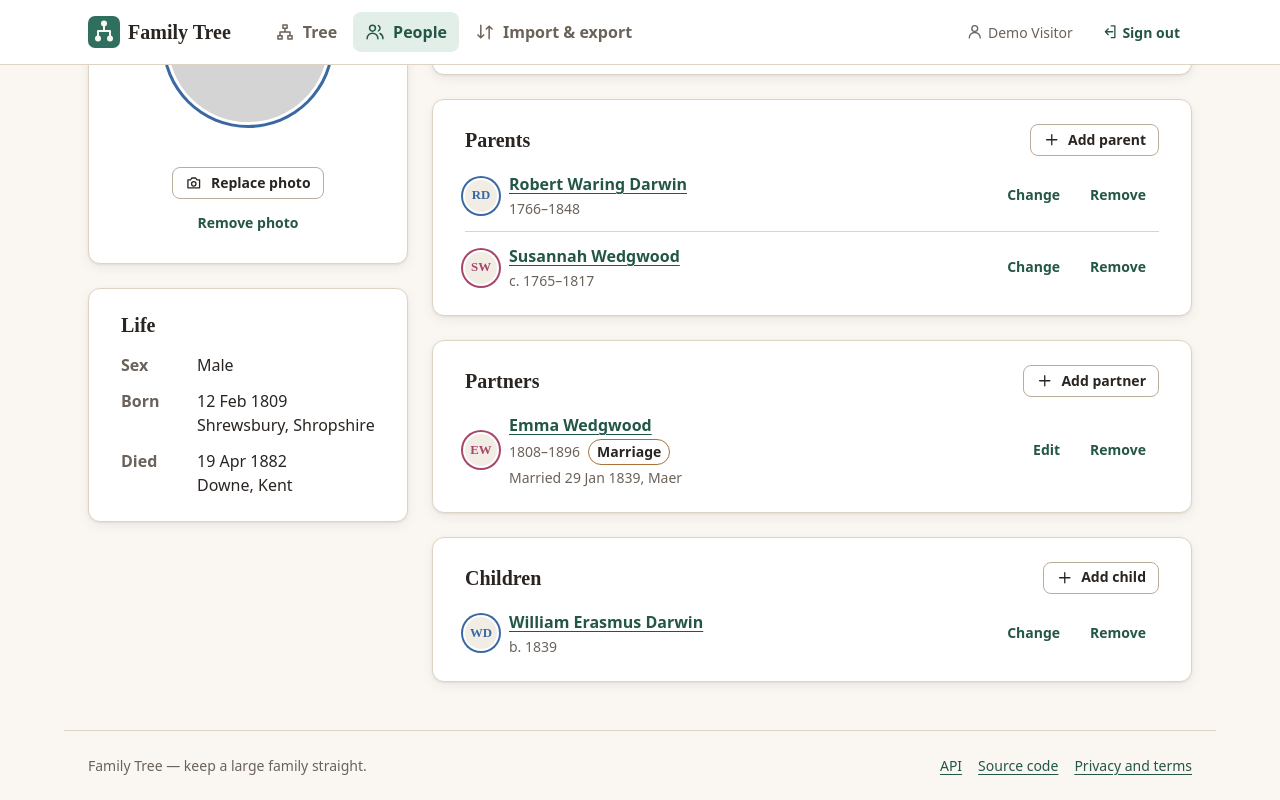
it: removing a partnership asks for confirmation
(page scrolled)
Click the button named "Remove Emma Wedgwood". click: (1118, 450)
box: left=1077, top=434, right=1159, bottom=466
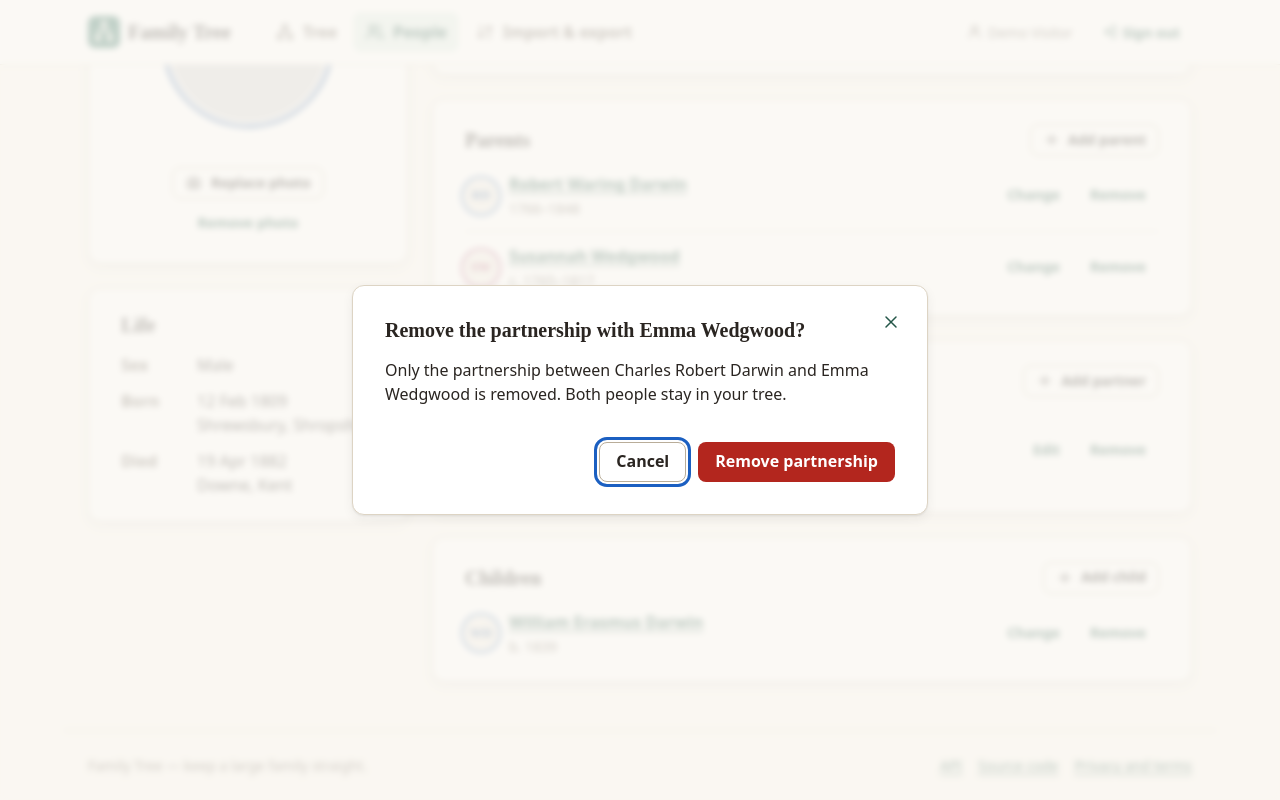
Click the button "Remove partnership". click: (797, 462)
box: left=698, top=442, right=895, bottom=482
(page scrolled)
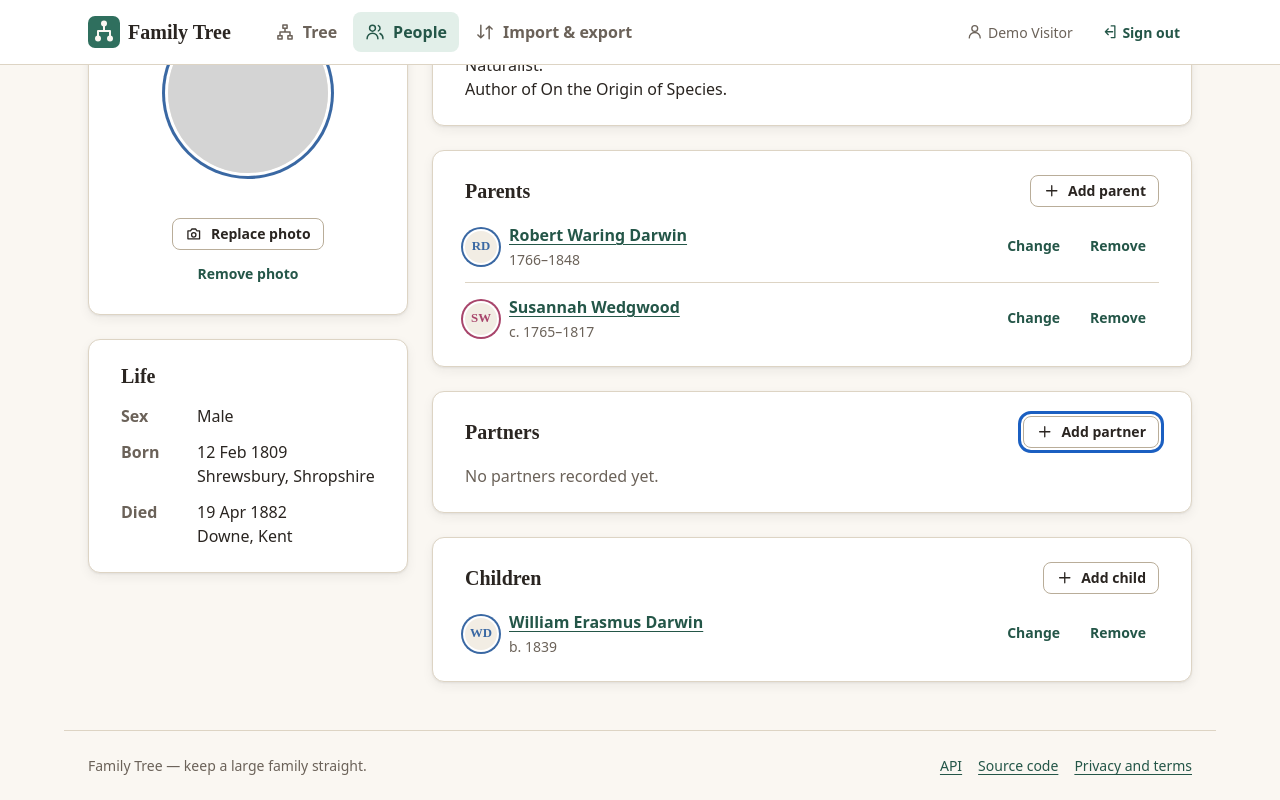
Expected: the text "No partners recorded yet." is shown, left=465, top=465, right=659, bottom=487
